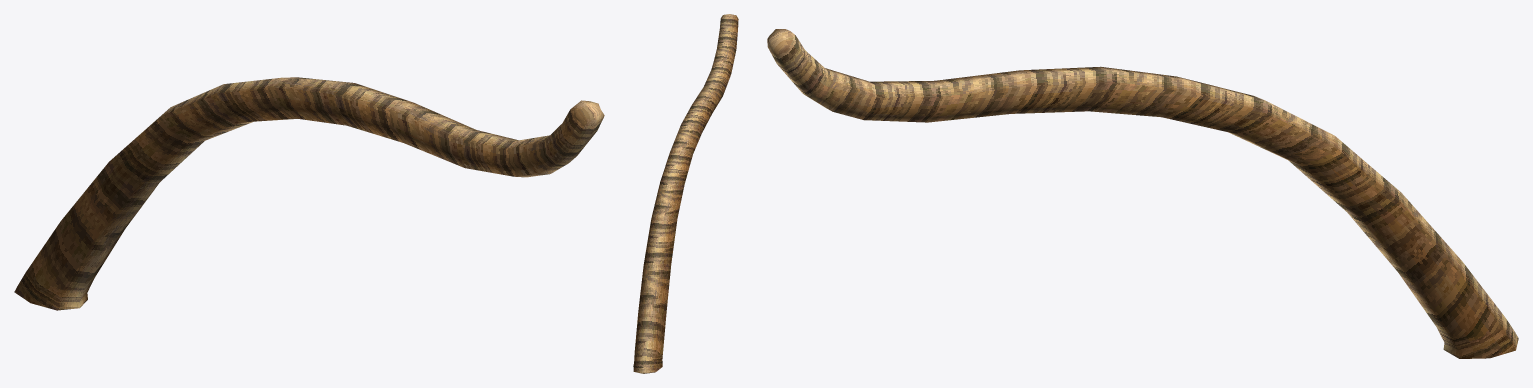
The model's file is treec.fbx.
3 views of the same model, side by side, from view 1: azimuth 30°, elevation 25°; view 2: azimuth 150°, elevation 25°; view 3: azimuth 270°, elevation 25° (orthographic). The views are drawn at different scales.
Visible parts, largest first — view 1: mesh-9.001; view 2: mesh-9.001; view 3: mesh-9.001.
Part boxes in pixels (x1,y1,x2,y2): mesh-9.001: (14,77,604,310); mesh-9.001: (633,14,738,373); mesh-9.001: (767,29,1518,358).
Size of the model in its own units: 303 by 515 by 865.
